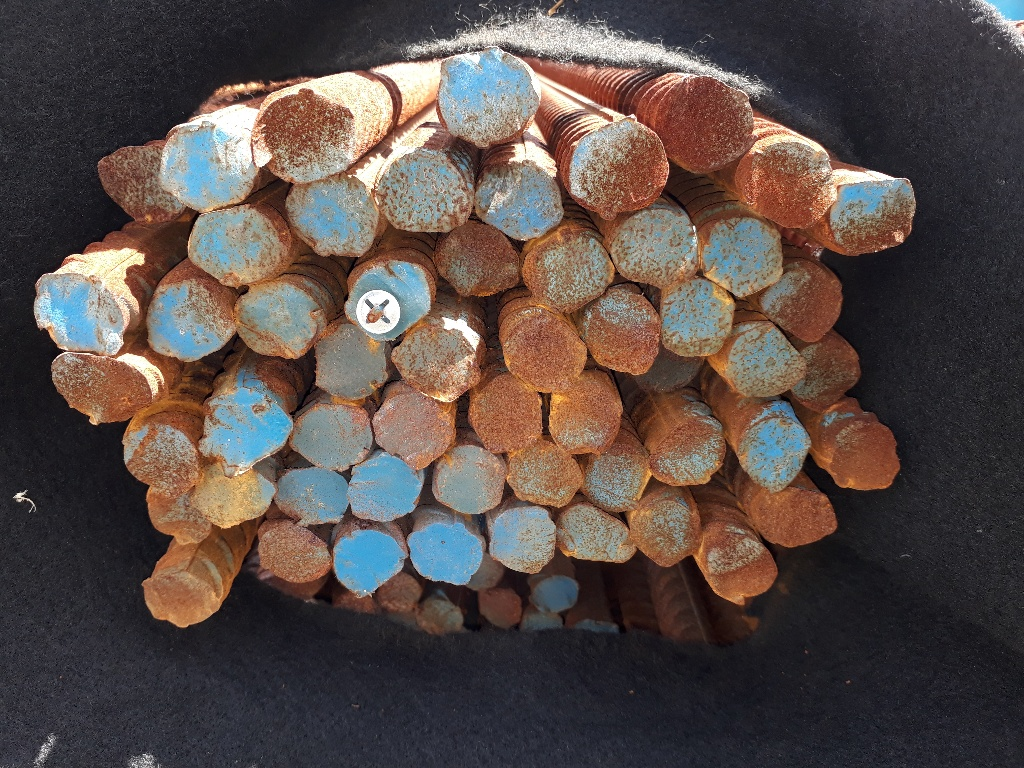dipstick: (439, 50, 538, 147), (658, 76, 754, 172), (255, 90, 354, 183), (570, 118, 666, 211), (159, 126, 256, 211), (201, 390, 293, 476), (286, 175, 374, 261), (378, 155, 471, 233), (99, 142, 184, 227), (189, 211, 282, 286), (33, 276, 121, 355), (700, 217, 785, 298), (828, 175, 917, 251), (751, 144, 833, 226), (392, 326, 479, 403), (344, 264, 431, 341), (473, 161, 562, 235), (434, 222, 521, 297), (145, 285, 230, 361), (234, 283, 316, 361), (760, 265, 844, 341), (612, 211, 697, 286), (48, 351, 131, 425), (584, 293, 656, 377), (372, 395, 453, 466), (470, 372, 540, 453), (312, 325, 387, 400), (728, 326, 806, 398), (537, 238, 614, 309), (663, 282, 734, 358), (793, 336, 862, 414), (504, 326, 588, 389), (121, 424, 198, 492), (195, 463, 276, 527), (348, 451, 421, 522), (741, 417, 810, 492), (290, 407, 374, 468), (651, 418, 726, 485), (507, 441, 583, 507), (405, 521, 483, 585), (706, 533, 779, 601), (430, 445, 504, 512), (331, 528, 404, 595), (273, 465, 351, 527), (547, 388, 617, 455), (556, 506, 633, 566), (756, 485, 834, 544), (488, 507, 557, 573), (629, 500, 696, 566), (258, 525, 330, 582), (143, 571, 215, 628), (834, 427, 900, 489), (581, 449, 649, 505), (141, 484, 201, 539), (637, 346, 706, 389), (415, 601, 464, 635), (530, 576, 577, 611), (479, 588, 522, 626), (376, 571, 419, 608)
